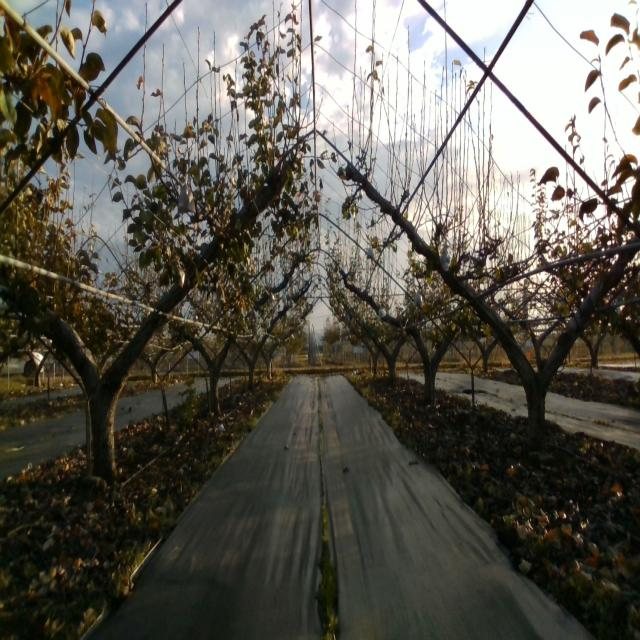pearbags: (176, 179, 196, 215), (440, 244, 451, 272)
